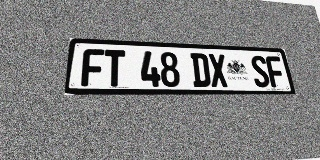4: (140, 51, 161, 87)
8: (160, 52, 180, 87)
D: (190, 53, 211, 87)
F: (81, 49, 104, 86), (265, 56, 286, 87)
S: (249, 55, 271, 87)
T: (104, 49, 125, 86)
X: (208, 54, 229, 87)
